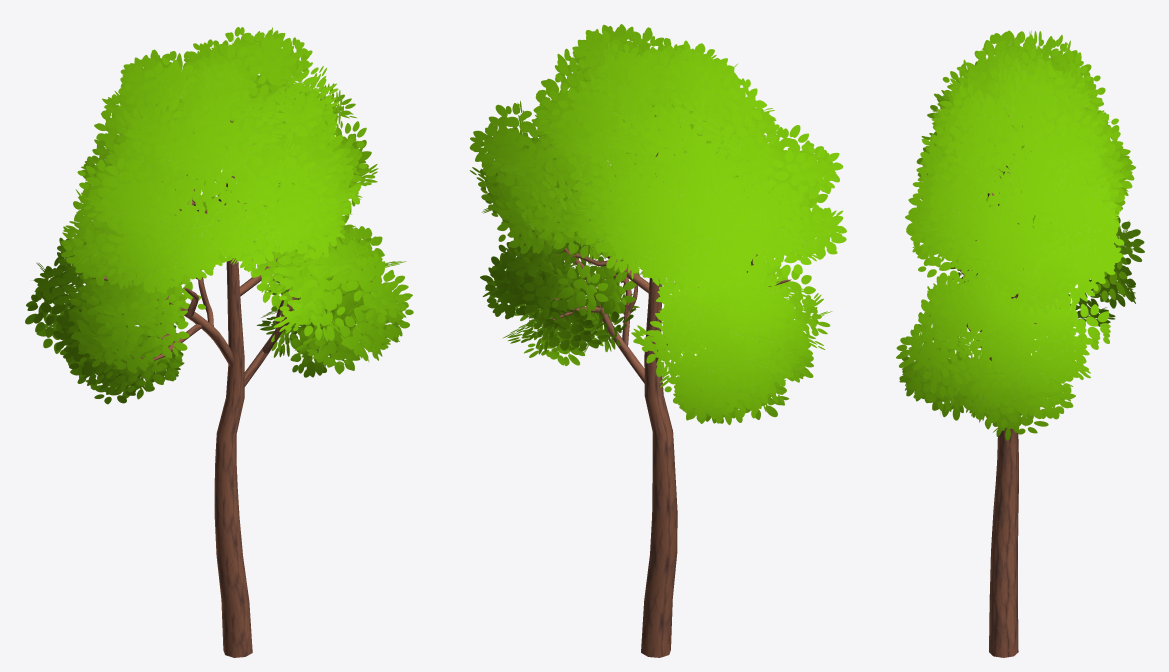
The model's file is jacaranda.glb.
3 views of the same model, side by side, from view 1: azimuth 30°, elevation 25°; view 2: azimuth 150°, elevation 25°; view 3: azimuth 270°, elevation 25° (orthographic). The views are drawn at different scales.
Visible parts, largest first — view 1: jacaranda; view 2: jacaranda; view 3: jacaranda.
Part boxes in pixels (x1,y1,x2,y2): jacaranda: (25, 27, 413, 657); jacaranda: (469, 24, 846, 657); jacaranda: (896, 30, 1144, 657).
Bounding box in the file's own units: 7.67 × 13 × 5.2.
2 materials, 2 textured.
